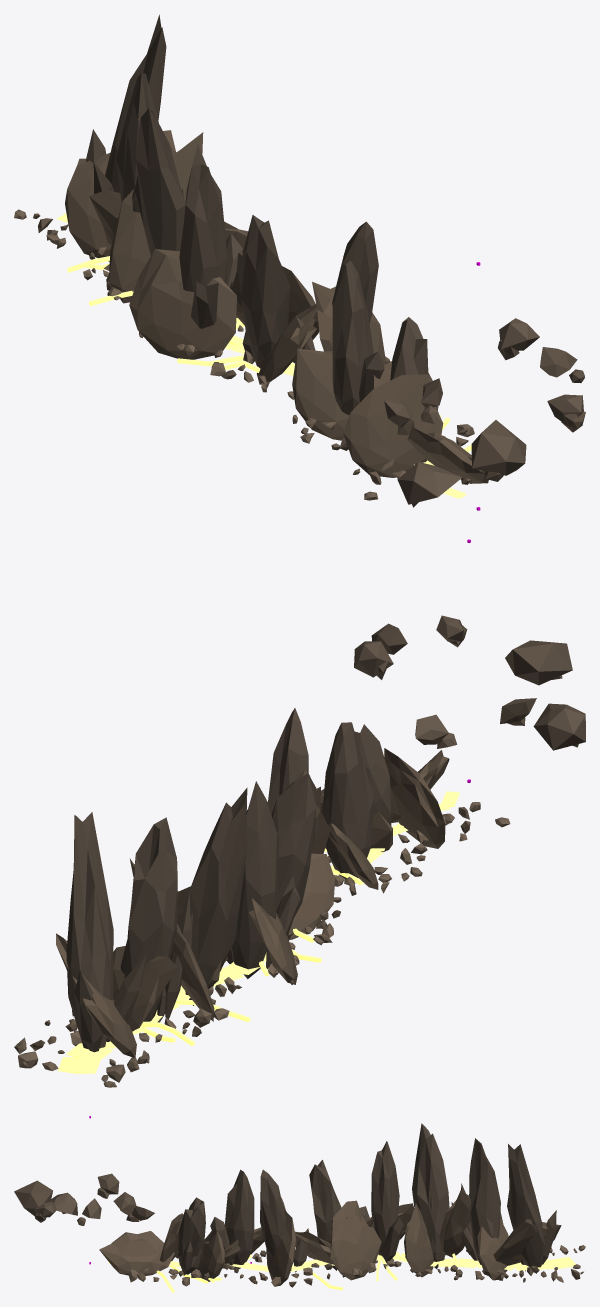
The model's file is EarthUltimate.fbx.
The picture shows the model from 3 angles, top to bottom: view 1: azimuth 30°, elevation 25°; view 2: azimuth 150°, elevation 25°; view 3: azimuth 270°, elevation 25°; orthographic projection. The views are drawn at different scales.
Visible parts, largest first — view 1: Slab_08, Spire_05, Slab_02, Spire_04, Spire_02, Spire_06, Slab_10, Slab_04, Rubble, Spire_08, Slab_12, Spire_07 (+15 smaller); view 2: Spire_08, Spire_07, Spire_06, Spire_05, Rubble, Spire_02, Spire_04, Fissure, Slab_02, Boulder_06, Spire_03, Slab_11 (+13 smaller); view 3: Spire_06, Spire_08, Slab_07, Spire_07, Spire_05, Rubble, Spire_02, Slab_01, Fissure, Spire_03, Spire_01, Spire_04 (+17 smaller).
Boxes of the visible parts, <box> form: Slab_08: <box>129,249,236,359</box>; Spire_05: <box>179,144,242,328</box>; Slab_02: <box>343,374,443,477</box>; Spire_04: <box>239,215,290,367</box>; Spire_02: <box>332,260,384,414</box>; Spire_06: <box>135,108,185,255</box>; Slab_10: <box>108,132,203,303</box>; Slab_04: <box>292,348,349,440</box>; Rubble: <box>14,209,474,500</box>; Spire_08: <box>86,14,166,193</box>; Slab_12: <box>65,130,176,261</box>; Spire_07: <box>116,73,158,212</box>; Spire_08: <box>66,812,146,1052</box>; Spire_07: <box>120,817,192,1022</box>; Spire_06: <box>185,787,247,1005</box>; Spire_05: <box>226,781,299,978</box>; Rubble: <box>14,802,510,1087</box>; Spire_02: <box>322,722,374,879</box>; Spire_04: <box>271,769,316,917</box>; Fissure: <box>57,791,459,1073</box>; Slab_02: <box>384,748,445,848</box>; Boulder_06: <box>505,640,572,685</box>; Spire_03: <box>268,708,308,801</box>; Slab_11: <box>113,946,177,1031</box>; Spire_06: <box>412,1123,449,1268</box>; Spire_08: <box>507,1144,556,1273</box>; Slab_07: <box>330,1200,381,1280</box>; Spire_07: <box>451,1138,500,1264</box>; Spire_05: <box>359,1141,403,1262</box>; Rubble: <box>129,1245,585,1287</box>; Spire_02: <box>210,1169,254,1269</box>; Slab_01: <box>99,1231,174,1276</box>; Fissure: <box>108,1252,575,1292</box>; Spire_03: <box>260,1169,308,1272</box>; Spire_01: <box>178,1197,205,1275</box>; Spire_04: <box>309,1160,347,1270</box>.
Bounding box in the file's own units: 8.35 × 10.71 × 35.5.
